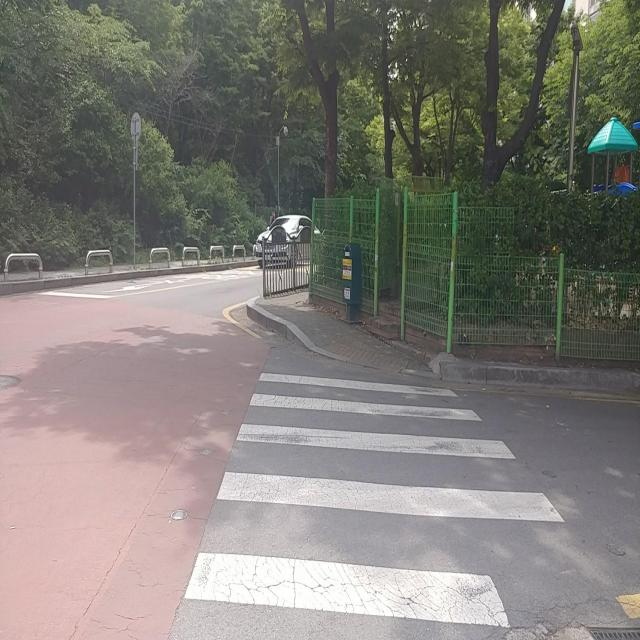횡단보도: (183, 366, 567, 639)
